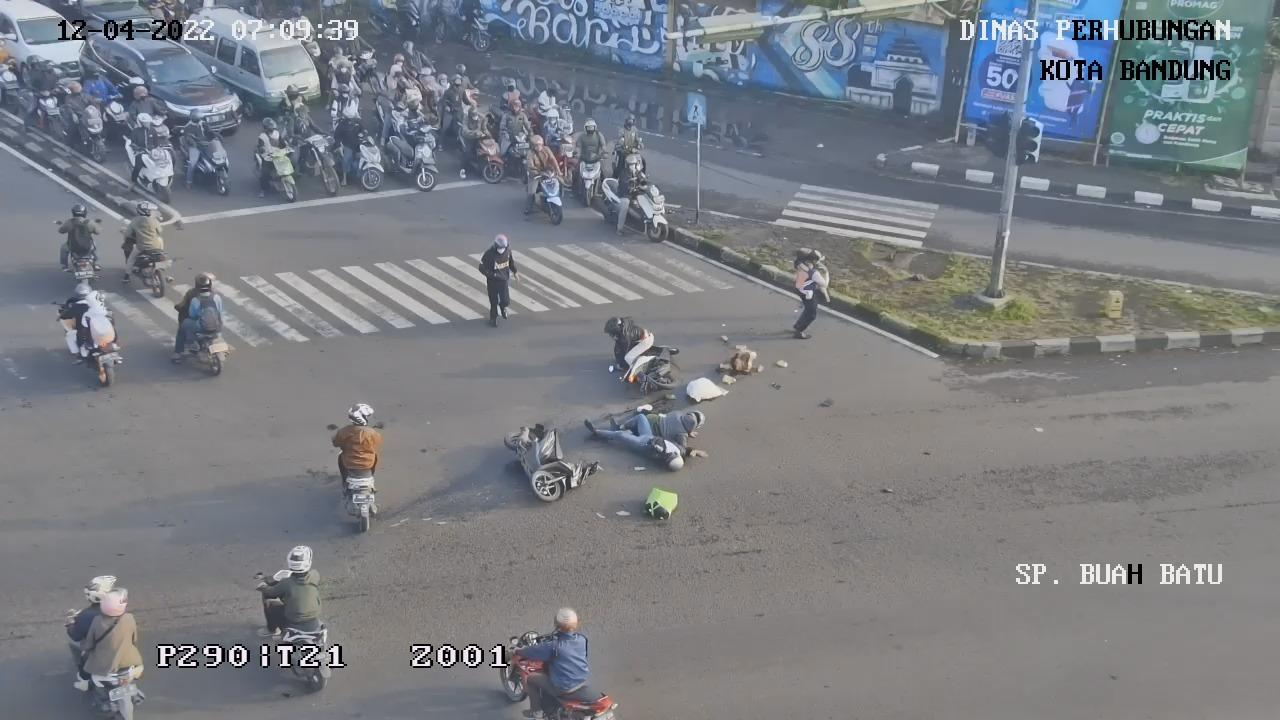accident: (584, 414, 709, 472), (586, 302, 677, 380), (637, 402, 705, 443)
